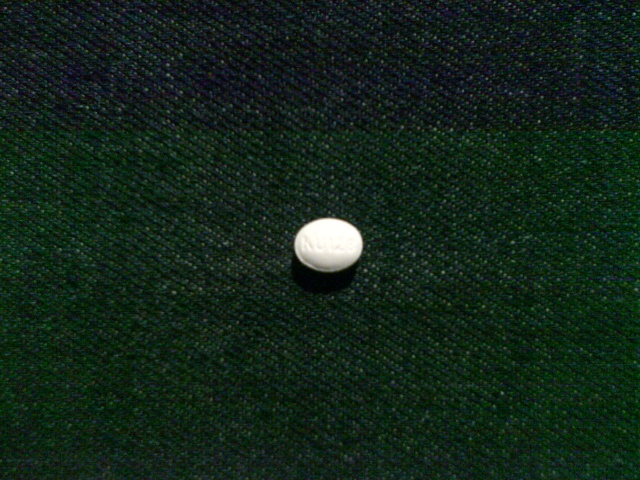2: (334, 236, 345, 254)
N: (303, 232, 316, 254)
U: (315, 232, 324, 250)
